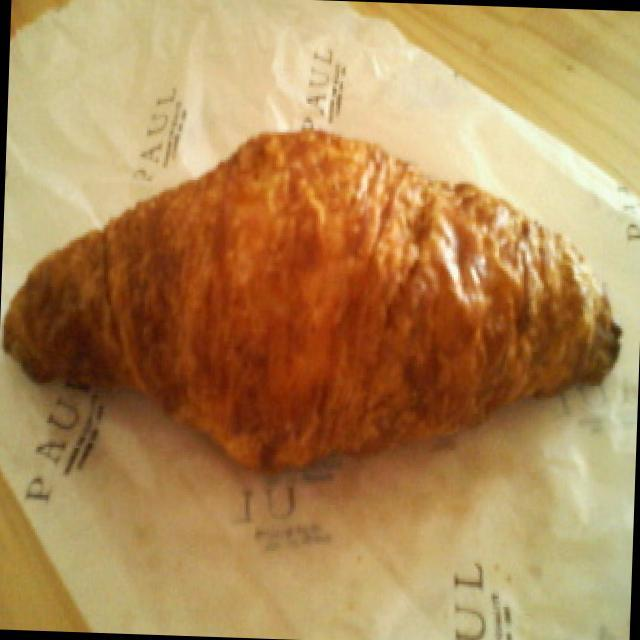Croissant: (5, 106, 640, 485)
